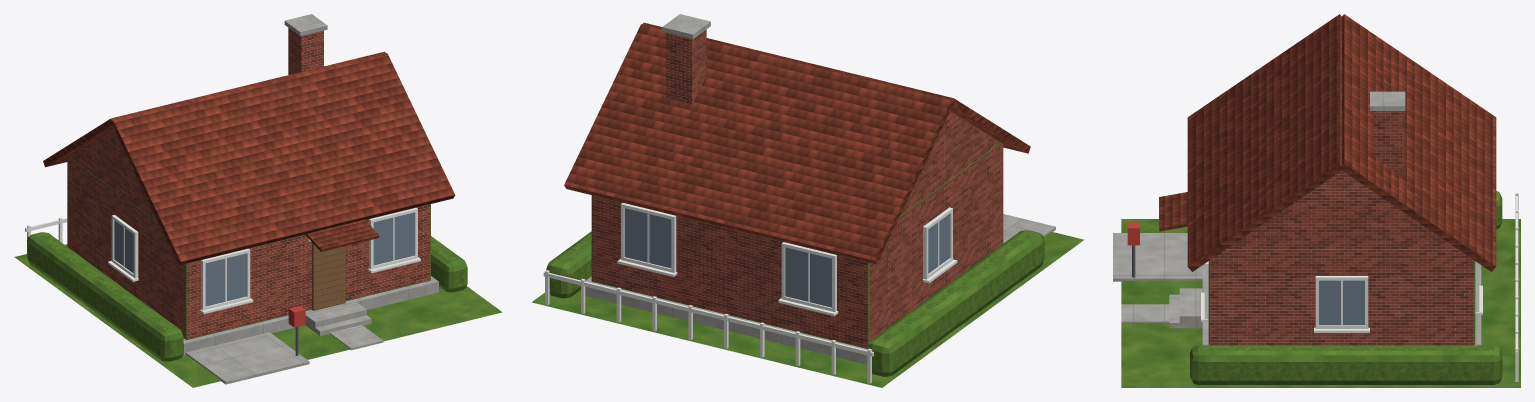
File: house_0.gltf
3 views of the same model, side by side, from view 1: azimuth 30°, elevation 25°; view 2: azimuth 150°, elevation 25°; view 3: azimuth 270°, elevation 25° (orthographic). The views are drawn at different scales.
Parts seen in each view (by area): view 1: house_0; view 2: house_0; view 3: house_0.
Part boxes in pixels (x1,y1,x2,y2): house_0: (14, 14, 502, 387); house_0: (531, 14, 1084, 387); house_0: (1113, 14, 1520, 387).
Size of the model in its own units: 1.92 by 1.31 by 1.96.
10 materials, 6 textured.
